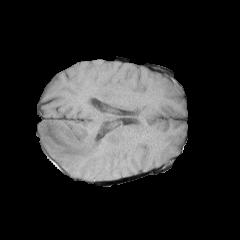glioma: (39, 120, 102, 169)
